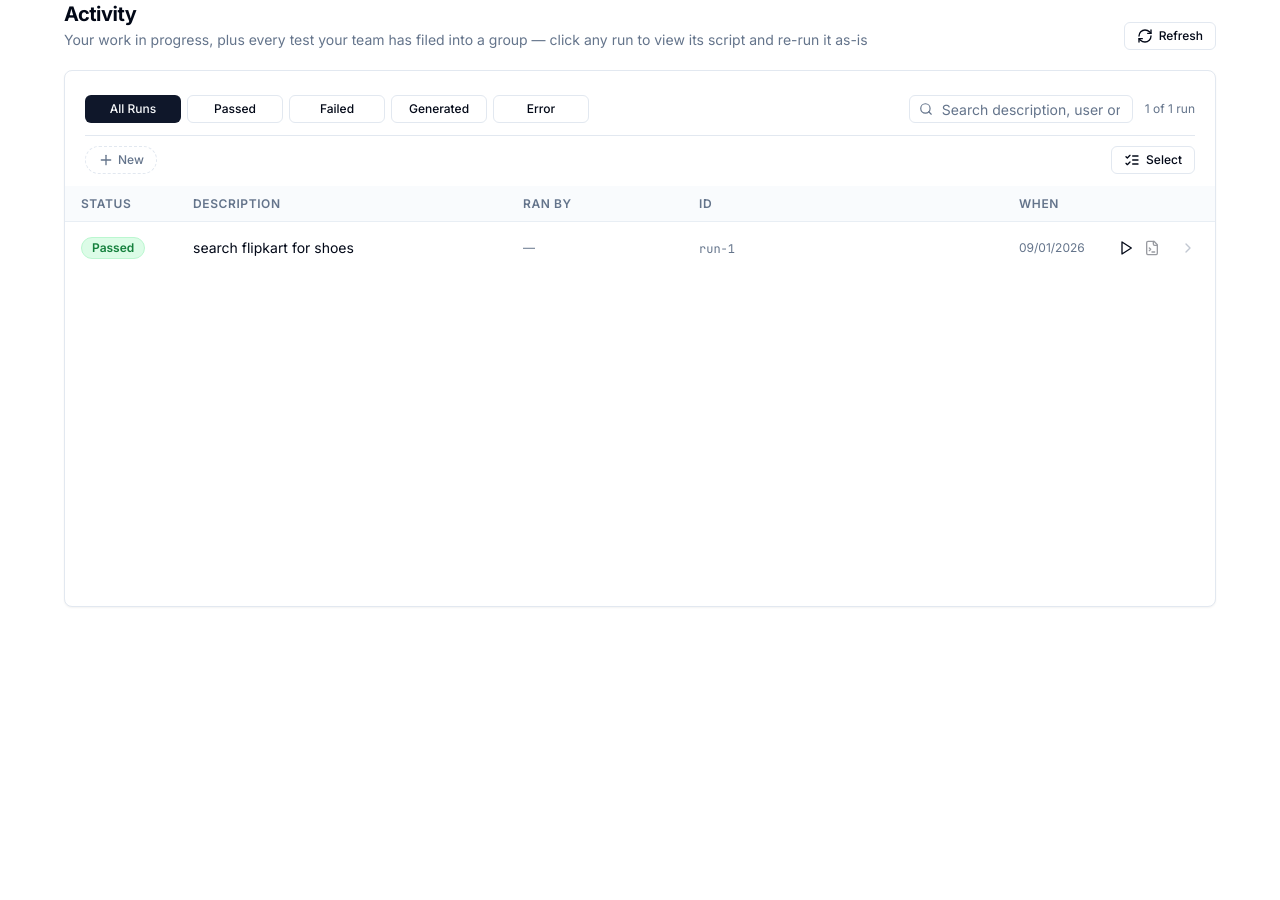
Test case: HistoryPage drawer — the corrections fetch › renders a correction’s text once the fetch succeeds
The image size is (1280, 900).
Click the button "search flipkart for shoes" at (273, 248), box x1=193 y1=238 x2=354 y2=258
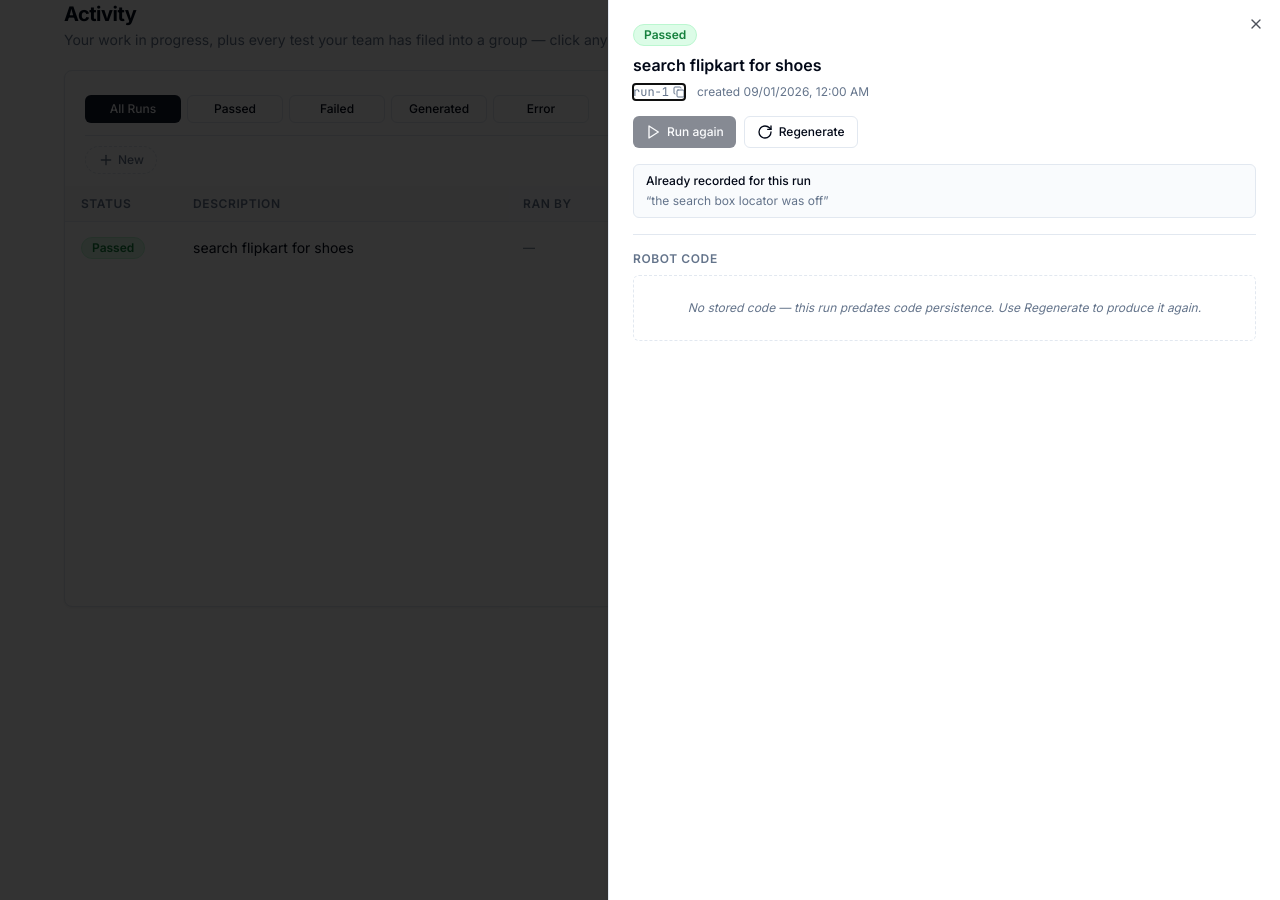
Expected: the list item "“the search box locator was off”" is shown, x1=646 y1=193 x2=829 y2=208
